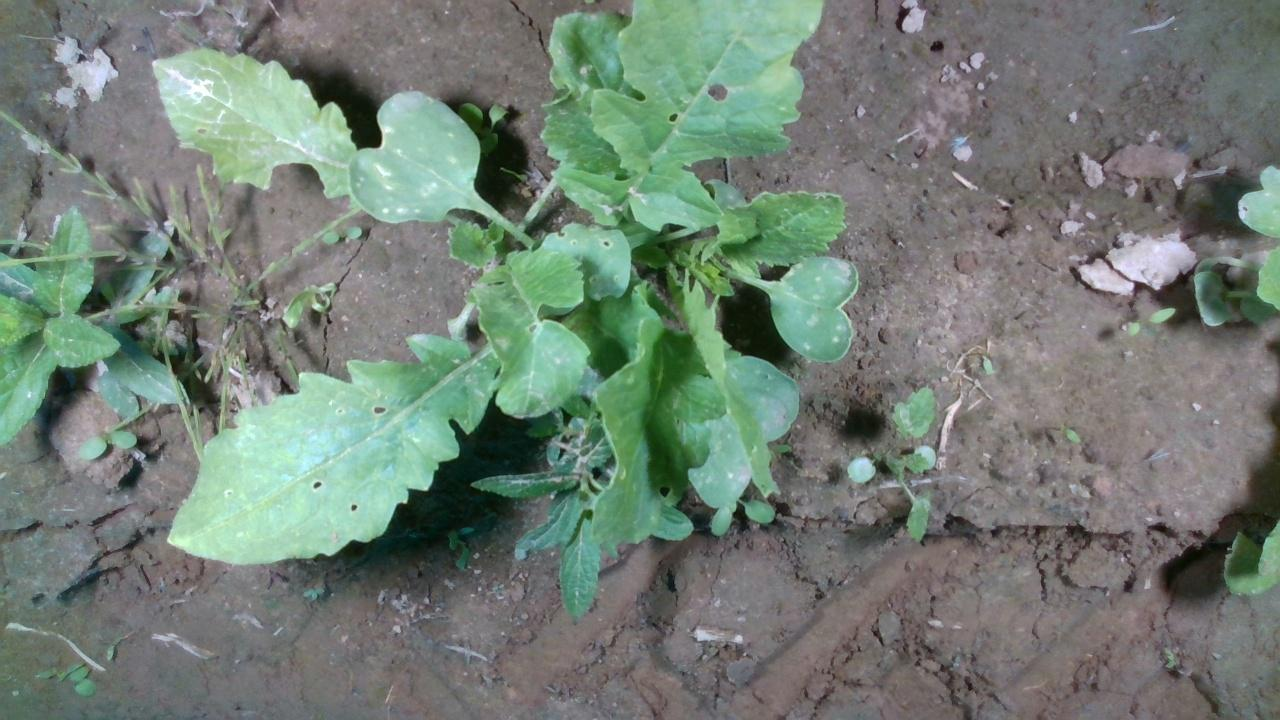weed: (1123, 305, 1176, 337), (300, 583, 325, 603)
